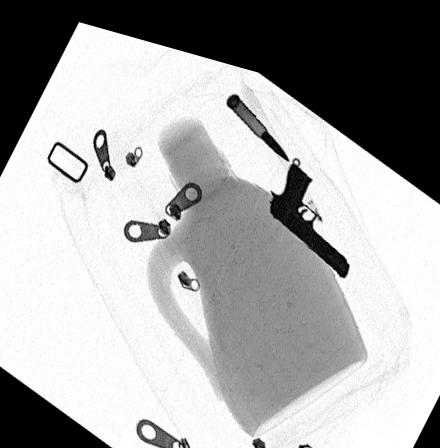Bullet: (227, 81, 290, 145)
Gun: (267, 144, 350, 260)
